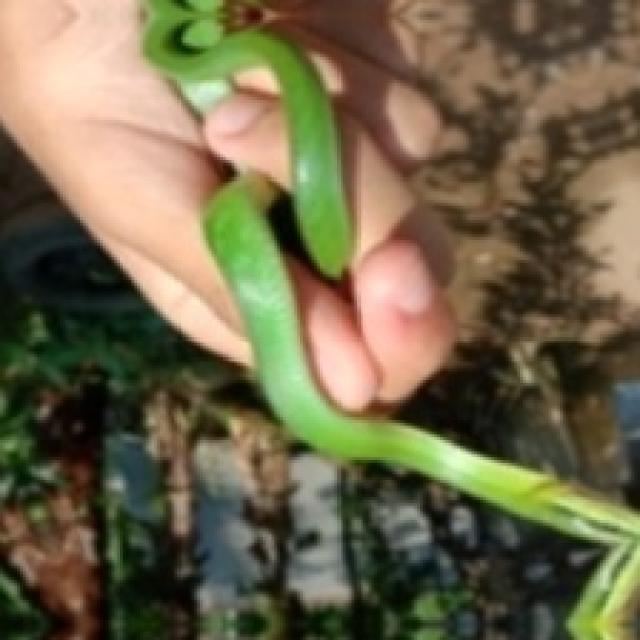red-tailed green ratsnake: (143, 0, 637, 637)
